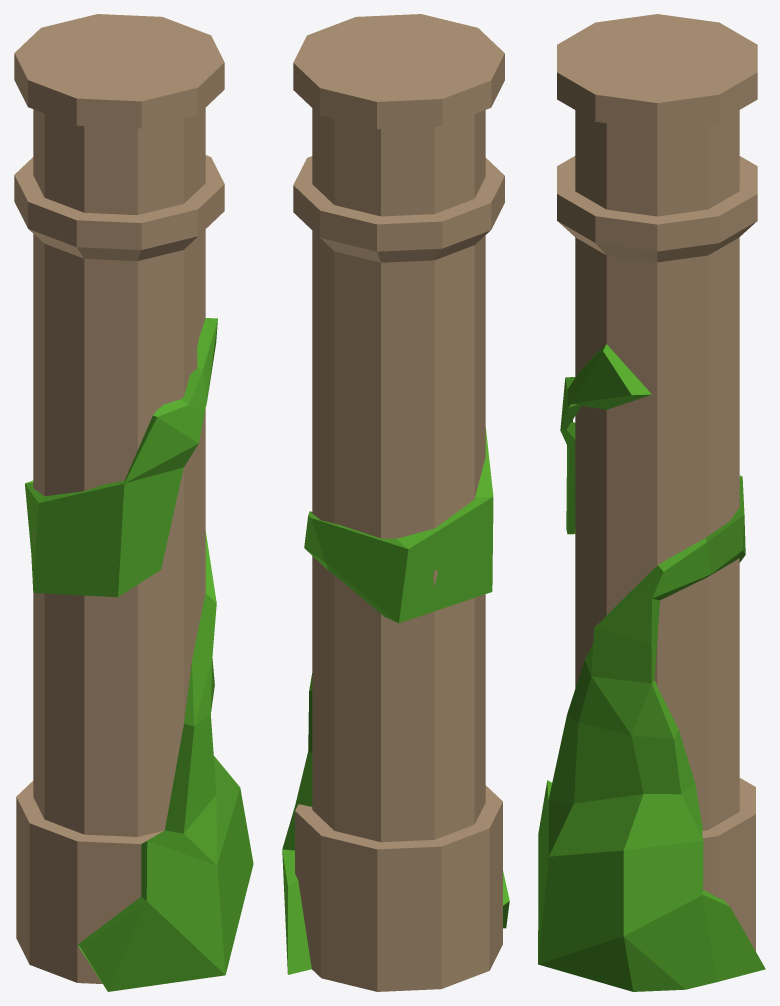
Rendered from Colomn_moss_02.fbx.
The picture shows the model from 3 angles, left to right: view 1: azimuth 30°, elevation 25°; view 2: azimuth 150°, elevation 25°; view 3: azimuth 270°, elevation 25°; orthographic projection.
Visible parts, largest first — view 1: SM_colomn_moss_02; view 2: SM_colomn_moss_02; view 3: SM_colomn_moss_02.
Boxes of the visible parts, left/top/right/bottom form: SM_colomn_moss_02: left=14, top=14, right=253, bottom=991; SM_colomn_moss_02: left=282, top=14, right=509, bottom=991; SM_colomn_moss_02: left=538, top=14, right=765, bottom=991.
Bounding box in the file's own units: 95.69 × 388 × 90.71.
1 material, 1 textured.
